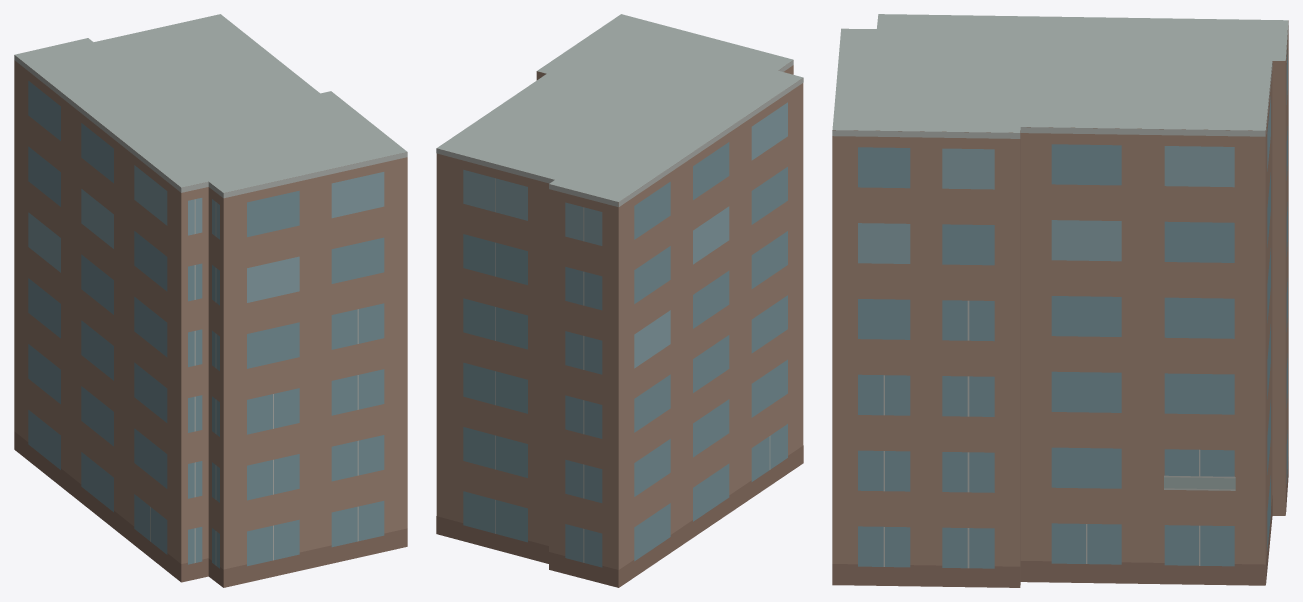
File: survey-upis-32654202.glb
3 views of the same model, side by side, from view 1: azimuth 30°, elevation 25°; view 2: azimuth 150°, elevation 25°; view 3: azimuth 270°, elevation 25° (orthographic). The views are drawn at different scales.
Visible parts, largest first — view 1: survey-upis-32654202.tmp; view 2: survey-upis-32654202.tmp; view 3: survey-upis-32654202.tmp.
Boxes of the visible parts, left/top/right/bottom form: survey-upis-32654202.tmp: left=14, top=14, right=407, bottom=587; survey-upis-32654202.tmp: left=436, top=14, right=803, bottom=587; survey-upis-32654202.tmp: left=832, top=14, right=1288, bottom=587.
Size of the model in its own units: 10.26 by 18.3 by 16.63.
